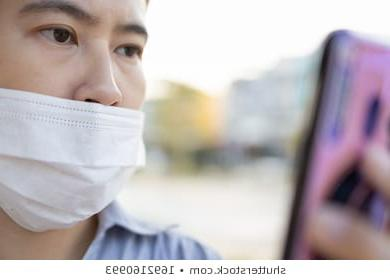mask_weared_incorrect: (0, 1, 147, 219)
